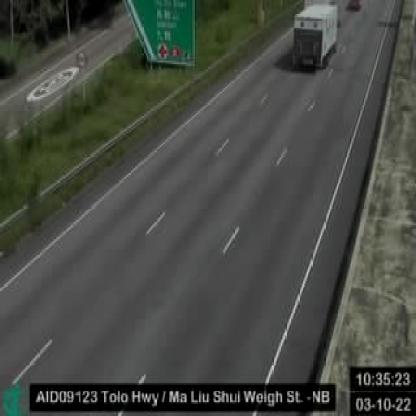Truck: (294, 2, 338, 67)
